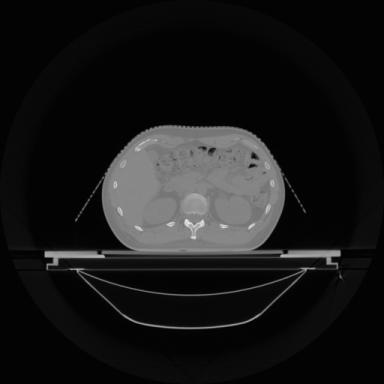body: (102, 126, 285, 251)
cord: (181, 194, 208, 240)
